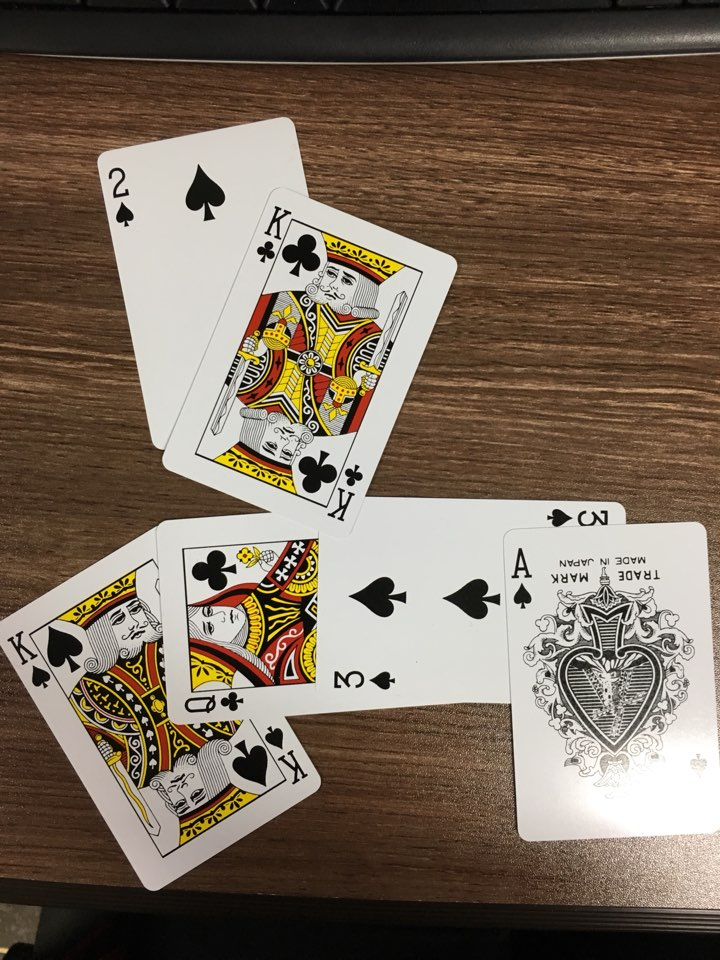ace: (484, 517, 718, 851)
king: (1, 513, 322, 899), (161, 182, 465, 545)
queen: (148, 513, 452, 744)
